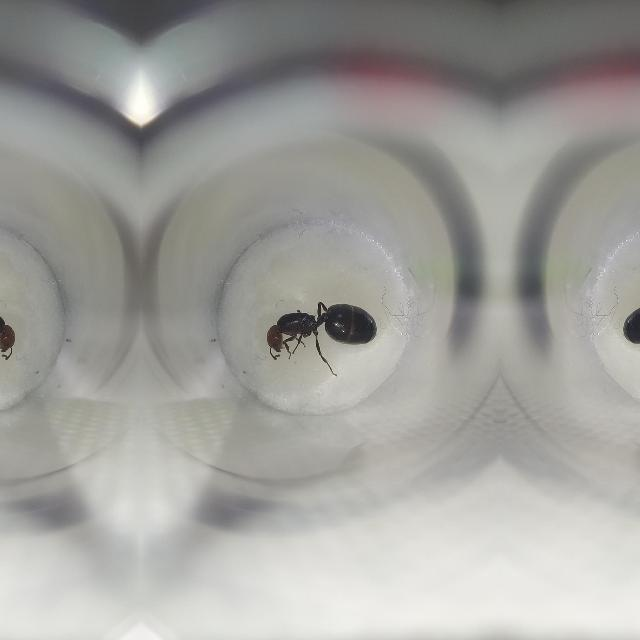Crematogaster: (259, 297, 377, 359)
